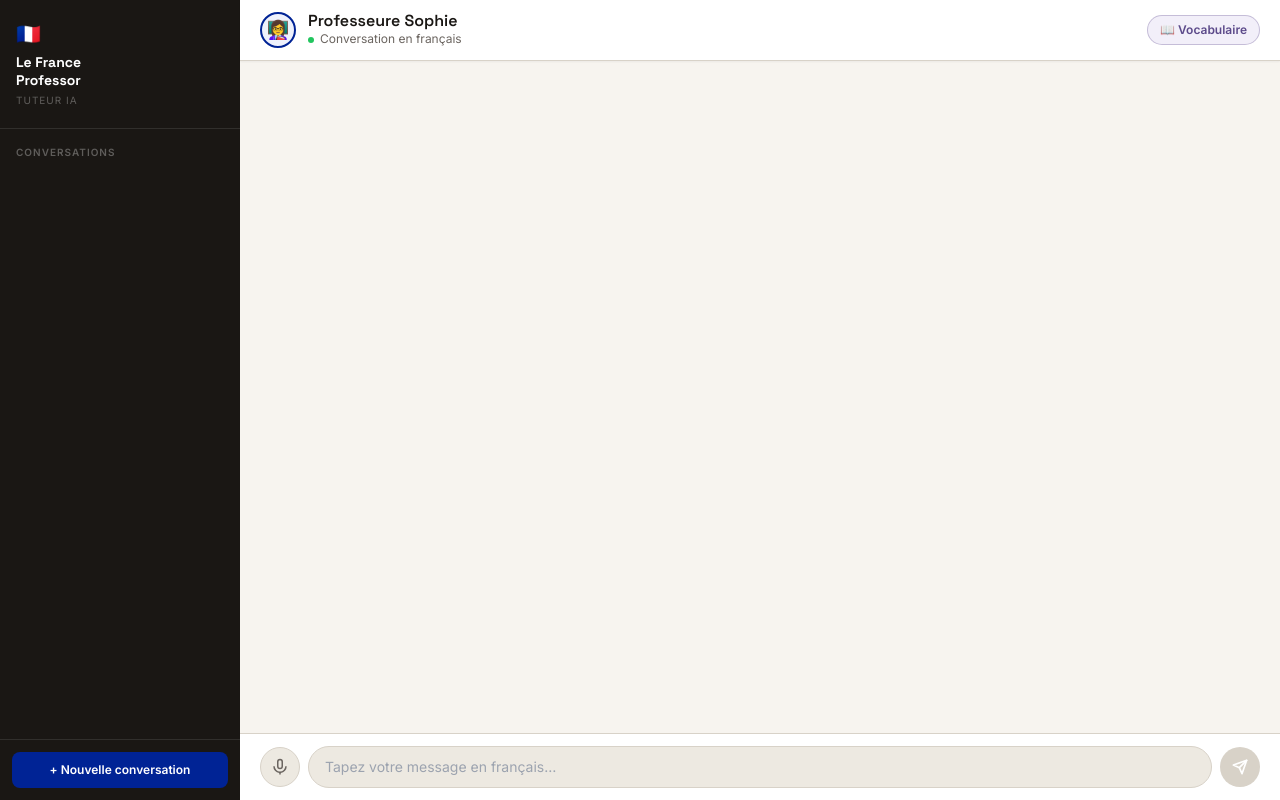
Scenario: ChatClient › populates the input with the transcription text
The image size is (1280, 800).
Click the button named "enregistrement vocal" at (280, 767), box [260, 747, 300, 787]
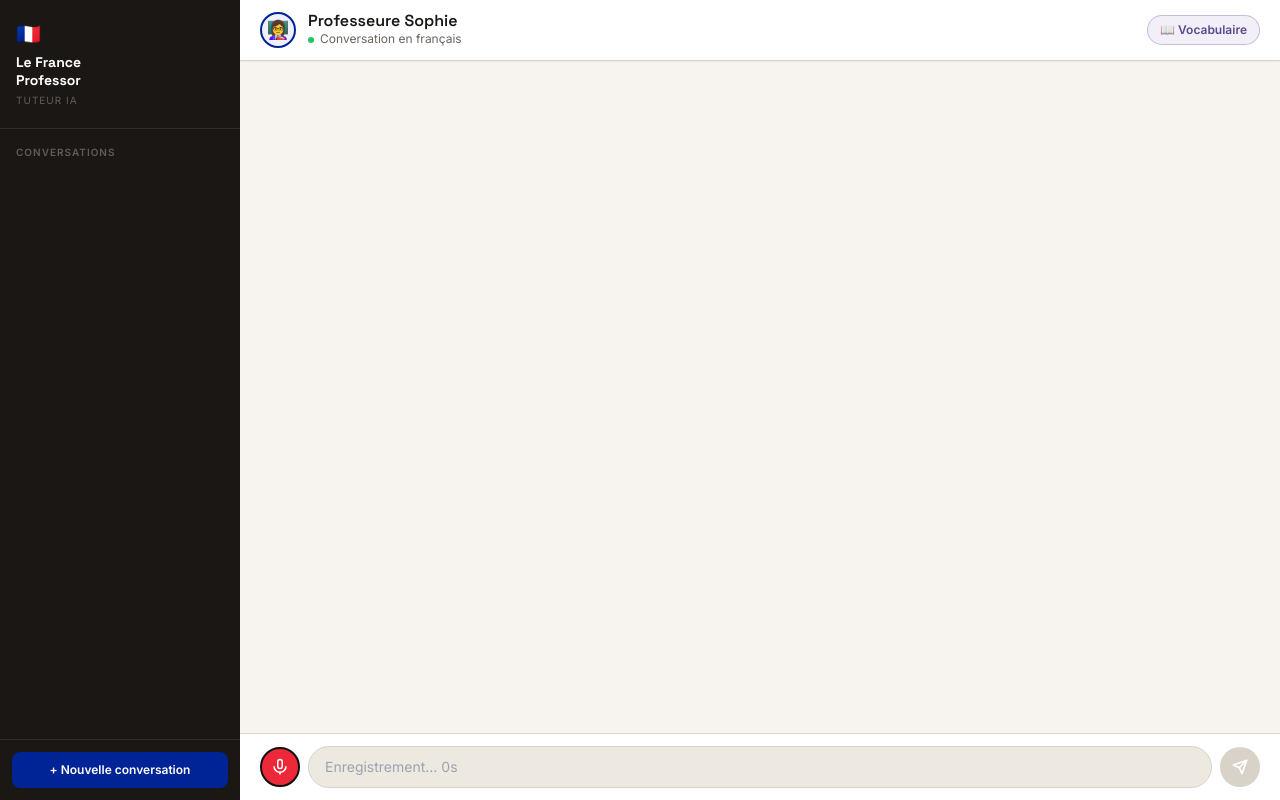
Click the button named "arrêter" at (280, 767), box [260, 747, 300, 787]
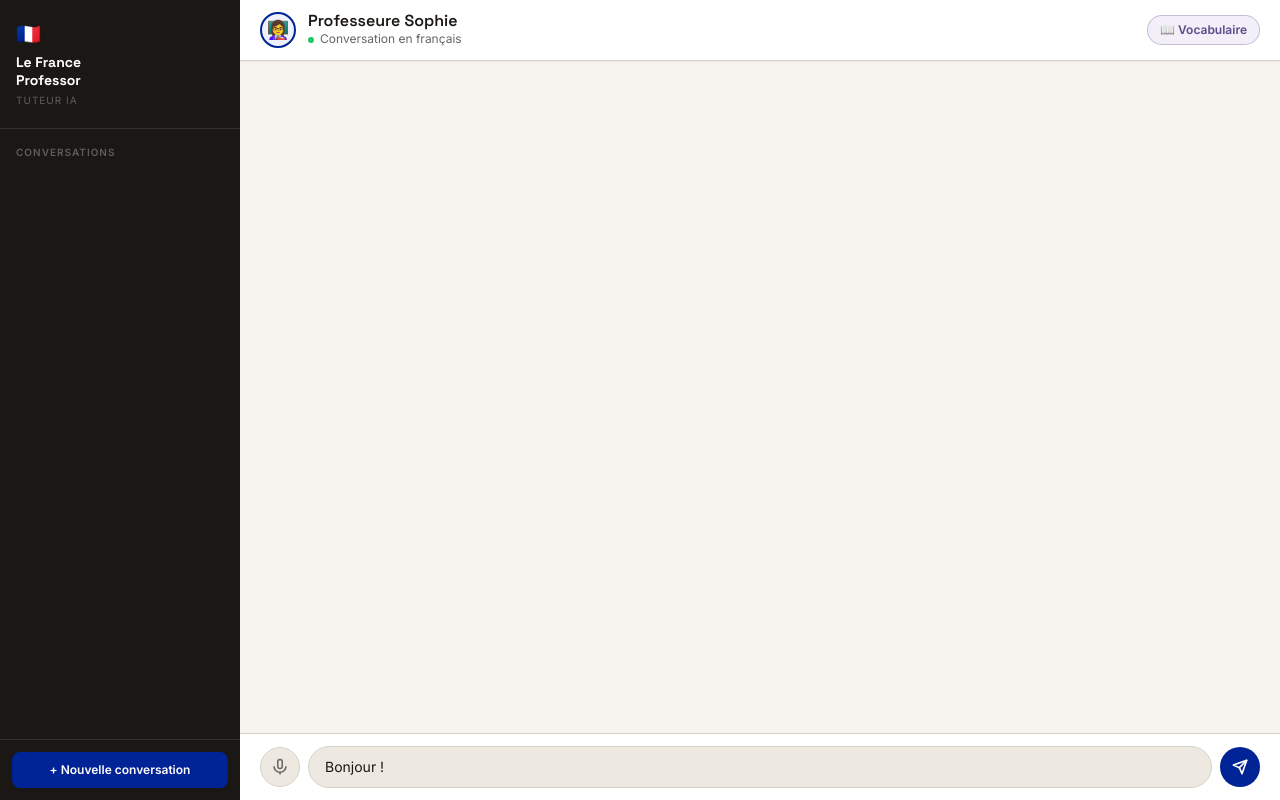
Expected: the field holds "Bonjour !", [308, 746, 1212, 788]
